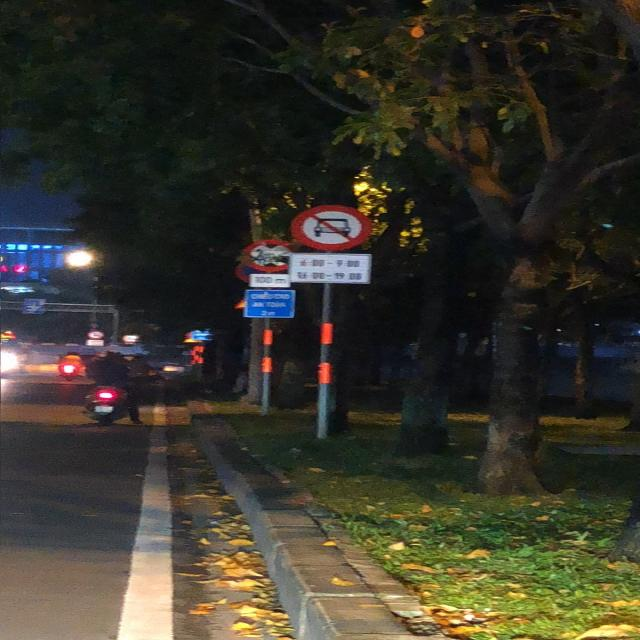Bien bao cam xe oto: (288, 202, 372, 250)
